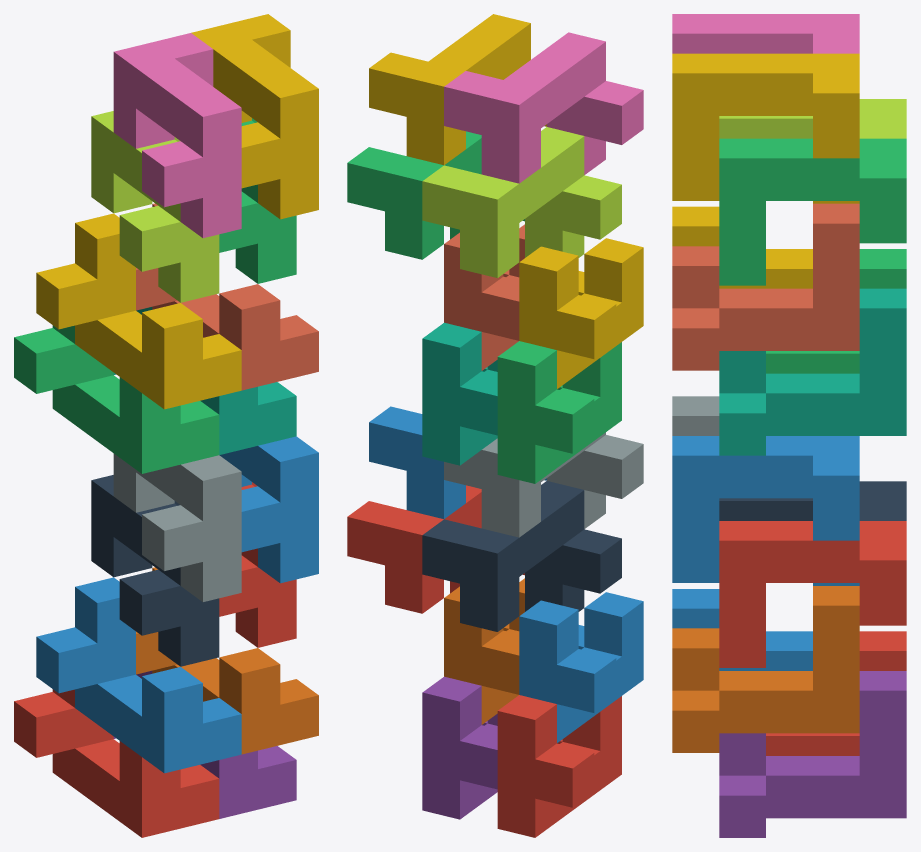
Rendered from tiling.obj.
The picture shows the model from 3 angles, left to right: view 1: azimuth 30°, elevation 25°; view 2: azimuth 150°, elevation 25°; view 3: azimuth 270°, elevation 25°; orthographic projection. The views are drawn at different scales.
Visible parts, largest first — view 1: copy_2_domain_4, copy_1_domain_2, copy_1_domain_4, copy_2_domain_8, copy_1_domain_1, copy_1_domain_3, copy_2_domain_2, copy_2_domain_1, copy_2_domain_3, copy_2_domain_6, copy_1_domain_6, copy_1_domain_8 (+4 smaller); view 2: copy_2_domain_4, copy_2_domain_1, copy_2_domain_3, copy_1_domain_4, copy_1_domain_2, copy_1_domain_1, copy_1_domain_3, copy_2_domain_8, copy_2_domain_2, copy_1_domain_5, copy_1_domain_7, copy_2_domain_7 (+4 smaller); view 3: copy_1_domain_6, copy_1_domain_8, copy_2_domain_8, copy_1_domain_5, copy_1_domain_7, copy_2_domain_7, copy_2_domain_6, copy_2_domain_5, copy_2_domain_4, copy_1_domain_4, copy_1_domain_1, copy_1_domain_3 (+4 smaller).
Boxes of the visible parts, x1,y1,x2,y2 form: copy_2_domain_4: [113, 33, 241, 238]; copy_1_domain_2: [36, 577, 241, 773]; copy_1_domain_4: [36, 213, 241, 409]; copy_2_domain_8: [191, 14, 318, 219]; copy_1_domain_1: [14, 689, 219, 837]; copy_1_domain_3: [14, 325, 219, 473]; copy_2_domain_2: [113, 453, 241, 601]; copy_2_domain_1: [91, 475, 219, 666]; copy_2_domain_3: [91, 111, 219, 302]; copy_2_domain_6: [219, 436, 318, 583]; copy_1_domain_6: [136, 567, 318, 754]; copy_1_domain_8: [136, 203, 318, 390]; copy_2_domain_4: [444, 32, 643, 183]; copy_2_domain_1: [422, 481, 621, 631]; copy_2_domain_3: [422, 127, 621, 277]; copy_1_domain_4: [519, 238, 643, 388]; copy_1_domain_2: [519, 592, 643, 742]; copy_1_domain_1: [497, 695, 621, 837]; copy_1_domain_3: [497, 341, 621, 483]; copy_2_domain_8: [369, 14, 546, 165]; copy_2_domain_2: [444, 432, 643, 537]; copy_1_domain_5: [422, 676, 497, 819]; copy_1_domain_7: [422, 322, 497, 465]; copy_2_domain_7: [347, 131, 524, 259]; copy_1_domain_6: [672, 586, 859, 752]; copy_1_domain_8: [672, 203, 859, 370]; copy_2_domain_8: [672, 53, 859, 200]; copy_1_domain_5: [719, 671, 906, 837]; copy_1_domain_7: [719, 288, 906, 455]; copy_2_domain_7: [719, 138, 906, 285]; copy_2_domain_6: [672, 436, 859, 582]; copy_2_domain_5: [719, 521, 906, 667]; copy_2_domain_4: [672, 14, 859, 53]; copy_1_domain_4: [672, 201, 859, 288]; copy_1_domain_1: [766, 631, 906, 755]; copy_1_domain_3: [766, 249, 906, 373].
Size of the model in its own units: 6 by 18 by 5.
